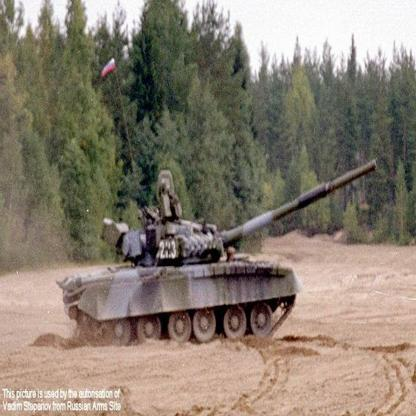Tank: (50, 153, 383, 354)
